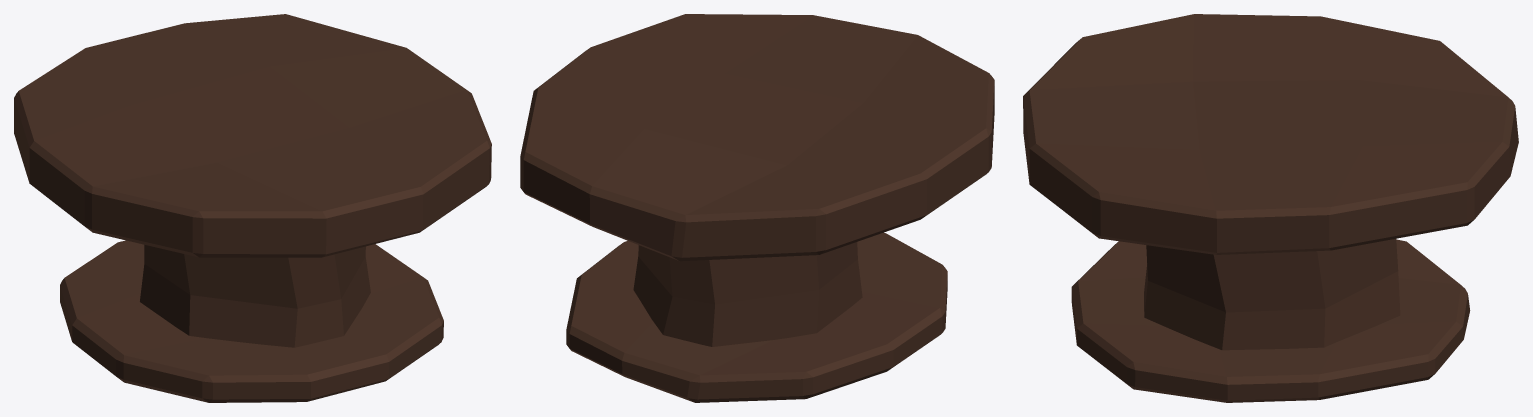
The model's file is table4.fbx.
3 renders of one model, left to right at view 1: azimuth 30°, elevation 25°; view 2: azimuth 150°, elevation 25°; view 3: azimuth 270°, elevation 25°, orthographic. The views are drawn at different scales.
Visible parts, largest first — view 1: table.003; view 2: table.003; view 3: table.003.
Part boxes in pixels (<box>): table.003: <box>14,14,491,402</box>; table.003: <box>520,14,994,402</box>; table.003: <box>1023,14,1518,402</box>.
Size of the model in its own units: 159 by 84.08 by 169.
